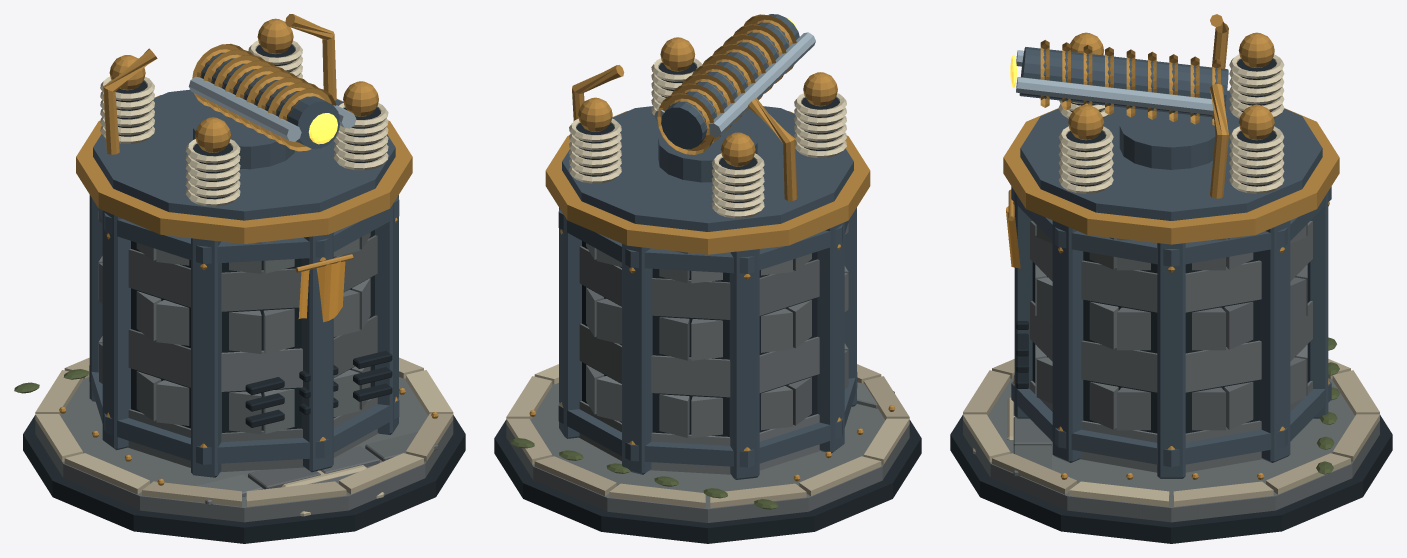
Rendered from lightning__canhao__L15.glb.
3 renders of one model, left to right at view 1: azimuth 30°, elevation 25°; view 2: azimuth 150°, elevation 25°; view 3: azimuth 270°, elevation 25°, orthographic. The views are drawn at different scales.
Visible parts, largest first — view 1: structure, weapon, banners; view 2: structure, weapon; view 3: structure, weapon, banners.
Part boxes in pixels (<box>): structure: <box>14,14,465,543</box>; weapon: <box>188,43,356,169</box>; banners: <box>295,254,353,322</box>; structure: <box>494,37,921,543</box>; weapon: <box>654,14,815,182</box>; structure: <box>950,14,1392,543</box>; weapon: <box>1010,40,1228,169</box>; banners: <box>1006,189,1020,268</box>.
Size of the model in its own units: 0.8624 by 0.8779 by 0.8624.
